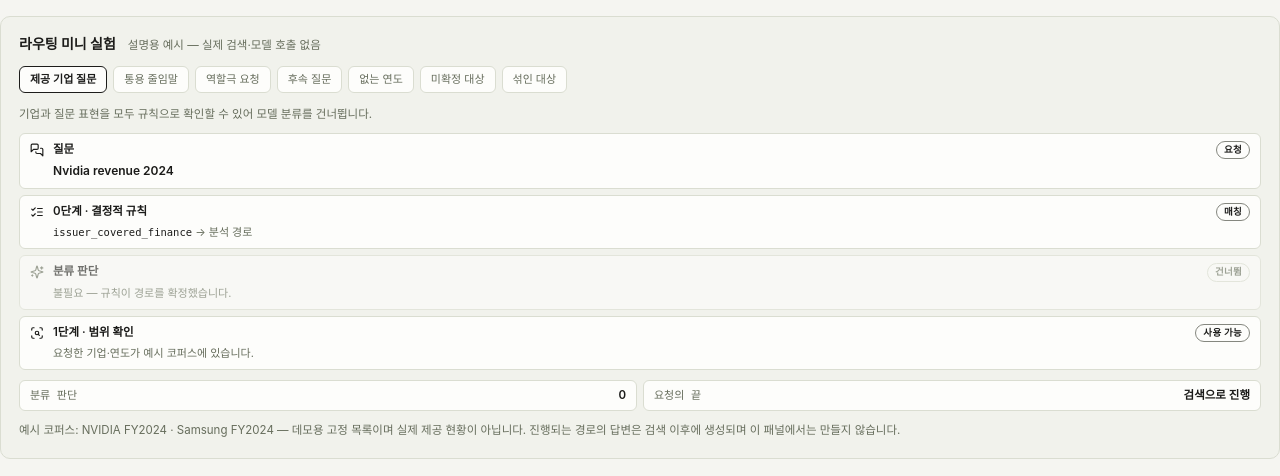
Test: renders localized labels in ko
This screenshot has width=1280, height=476.
Expected: the text "라우팅 미니 실험" is shown, [19,33,116,54]
Expected: the text "설명용 예시 — 실제 검색·모델 호출 없음" is shown, [128,37,321,54]
Click the button "미확정 대상" at (458, 80), box [420,66,496,93]
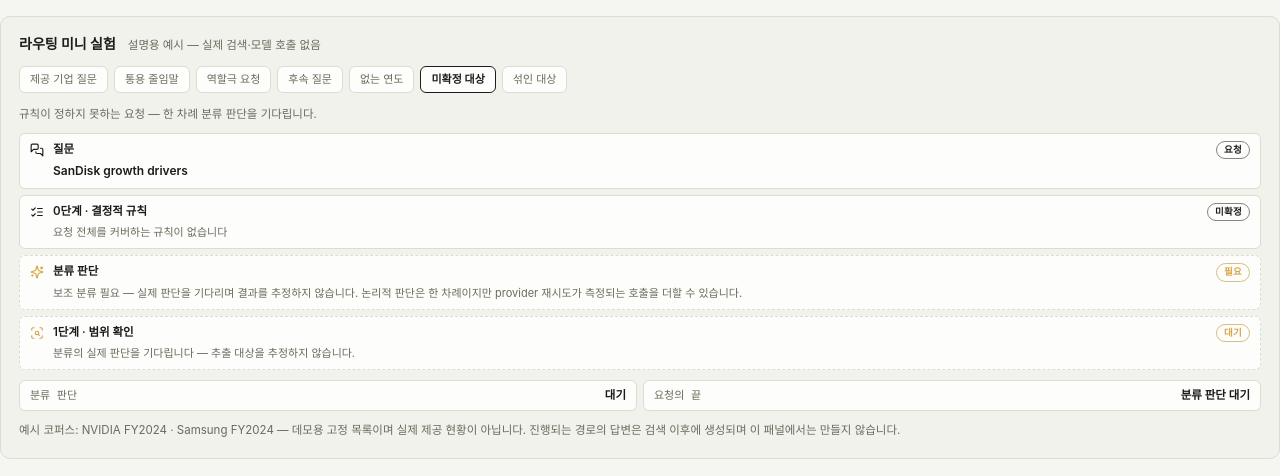
Result: the text "보조 분류 필요" is shown at [53,286,742,300]
Result: the text "대기" next to "요청의 끝" is shown at [605,388,626,402]
